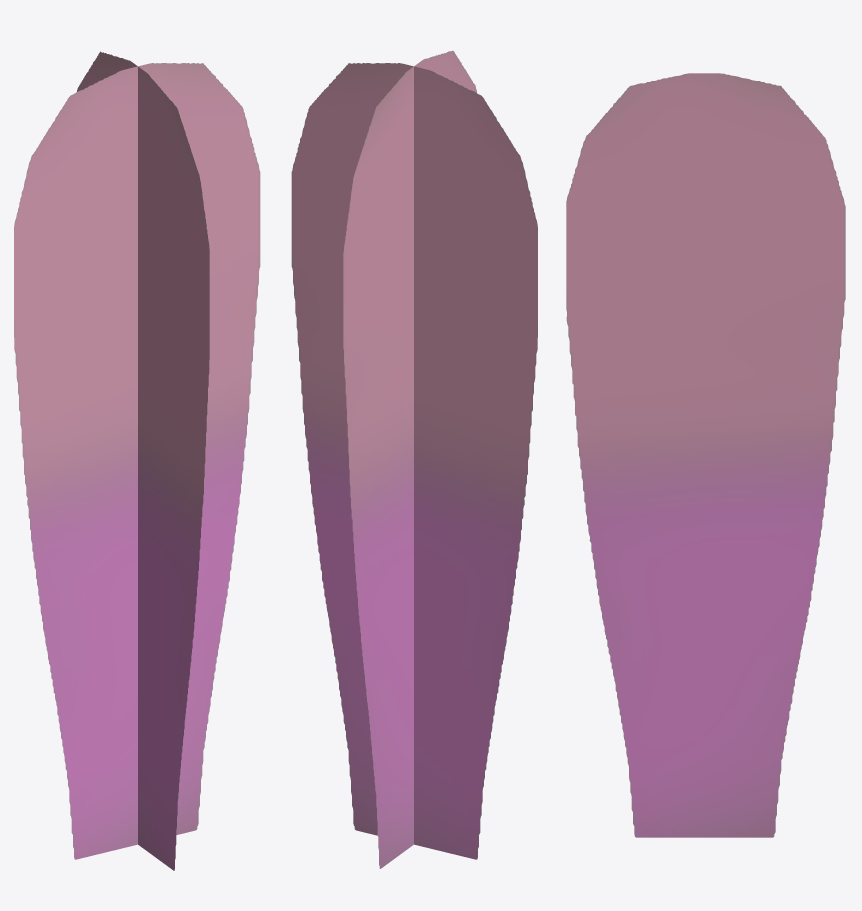
Rendered from SM_caodi.fbx.
The picture shows the model from 3 angles, left to right: view 1: azimuth 30°, elevation 25°; view 2: azimuth 150°, elevation 25°; view 3: azimuth 270°, elevation 25°; orthographic projection.
Parts seen in each view (by area): view 1: pPlane37; view 2: pPlane37; view 3: pPlane37.
Boxes of the visible parts, x1,y1,x2,y2 form: pPlane37: (14,51,260,870); pPlane37: (291,50,537,868); pPlane37: (566,73,845,837).
Bounding box in the file's own units: 2.88 × 8.64 × 2.88.
